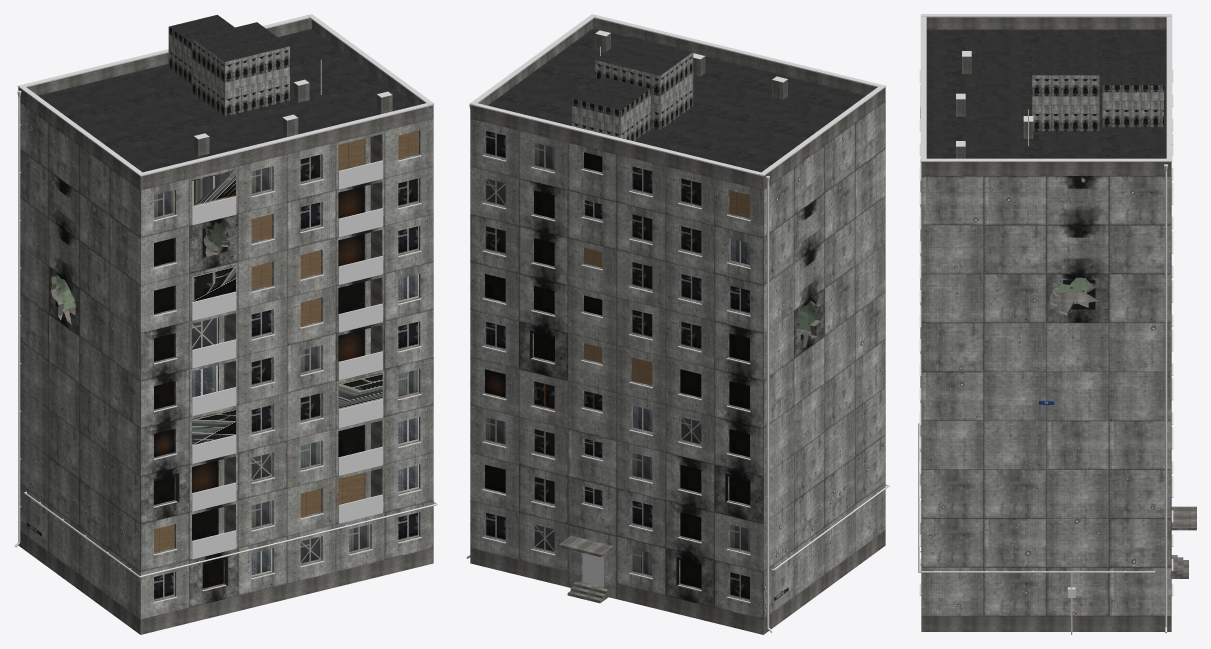
Rendered from S1U_P9_Burnt.fbx.
3 renders of one model, left to right at view 1: azimuth 30°, elevation 25°; view 2: azimuth 150°, elevation 25°; view 3: azimuth 270°, elevation 25°, orthographic. The views are drawn at different scales.
Parts seen in each view (by area): view 1: S1U_P9_Burnt; view 2: S1U_P9_Burnt; view 3: S1U_P9_Burnt.
Part boxes in pixels (x1,y1,x2,y2): S1U_P9_Burnt: [14, 14, 437, 634]; S1U_P9_Burnt: [466, 14, 889, 634]; S1U_P9_Burnt: [918, 14, 1196, 634].
Bounding box in the file's own units: 18.79 × 29.4 × 14.47.
